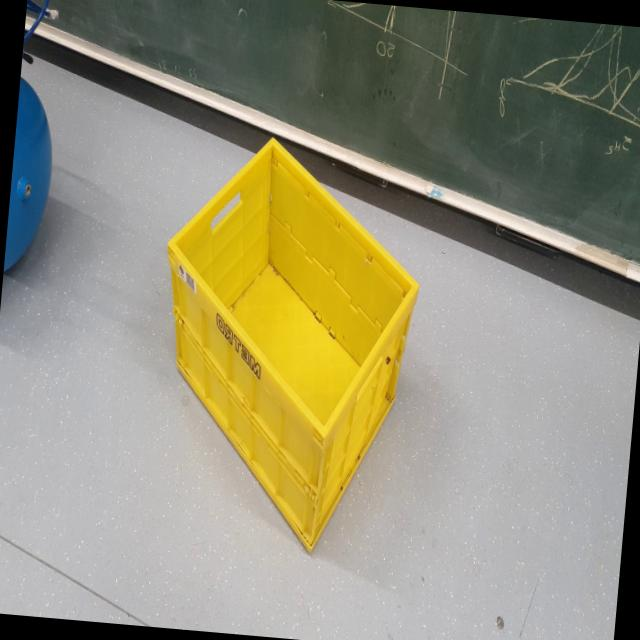box: (130, 115, 436, 574)
